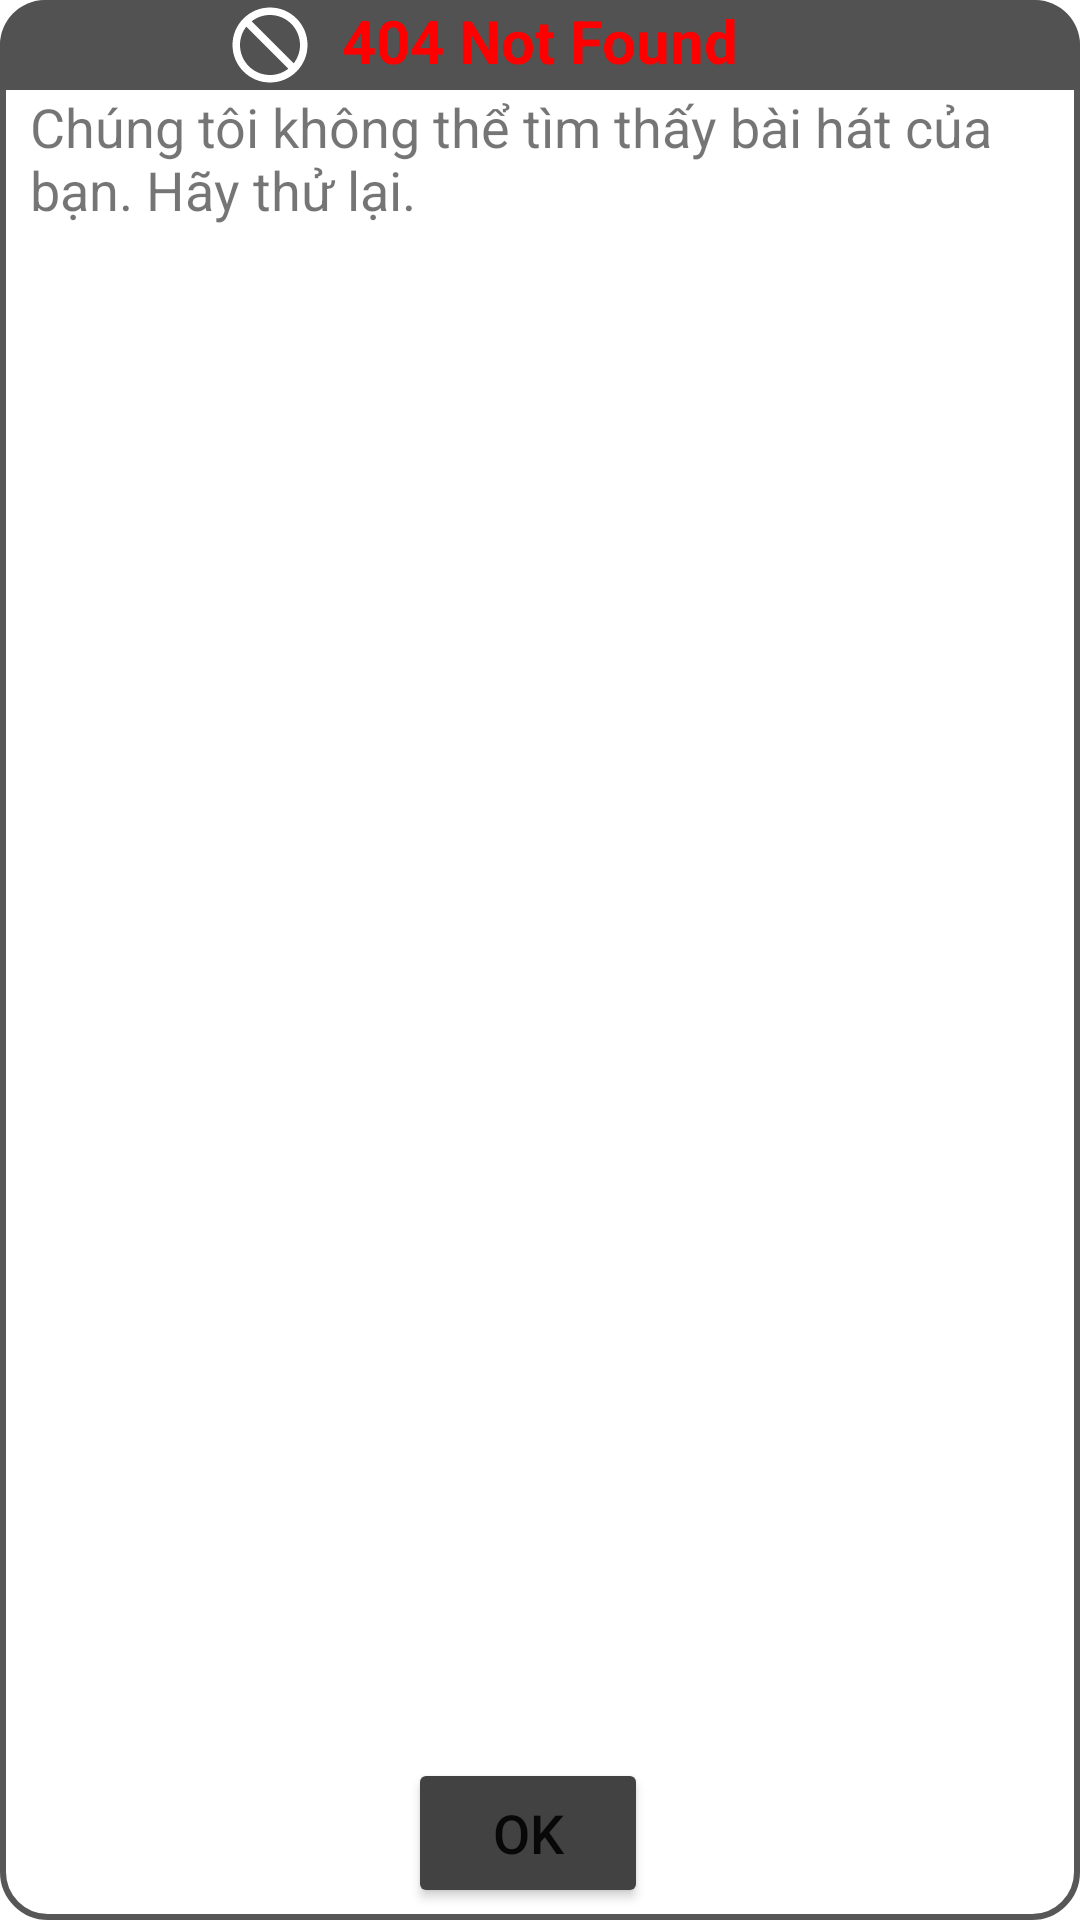

Point at icon controls on the screen. Image size 1080*1920, points as (x=x, y=y).
do not disturb: (x=270, y=45)
